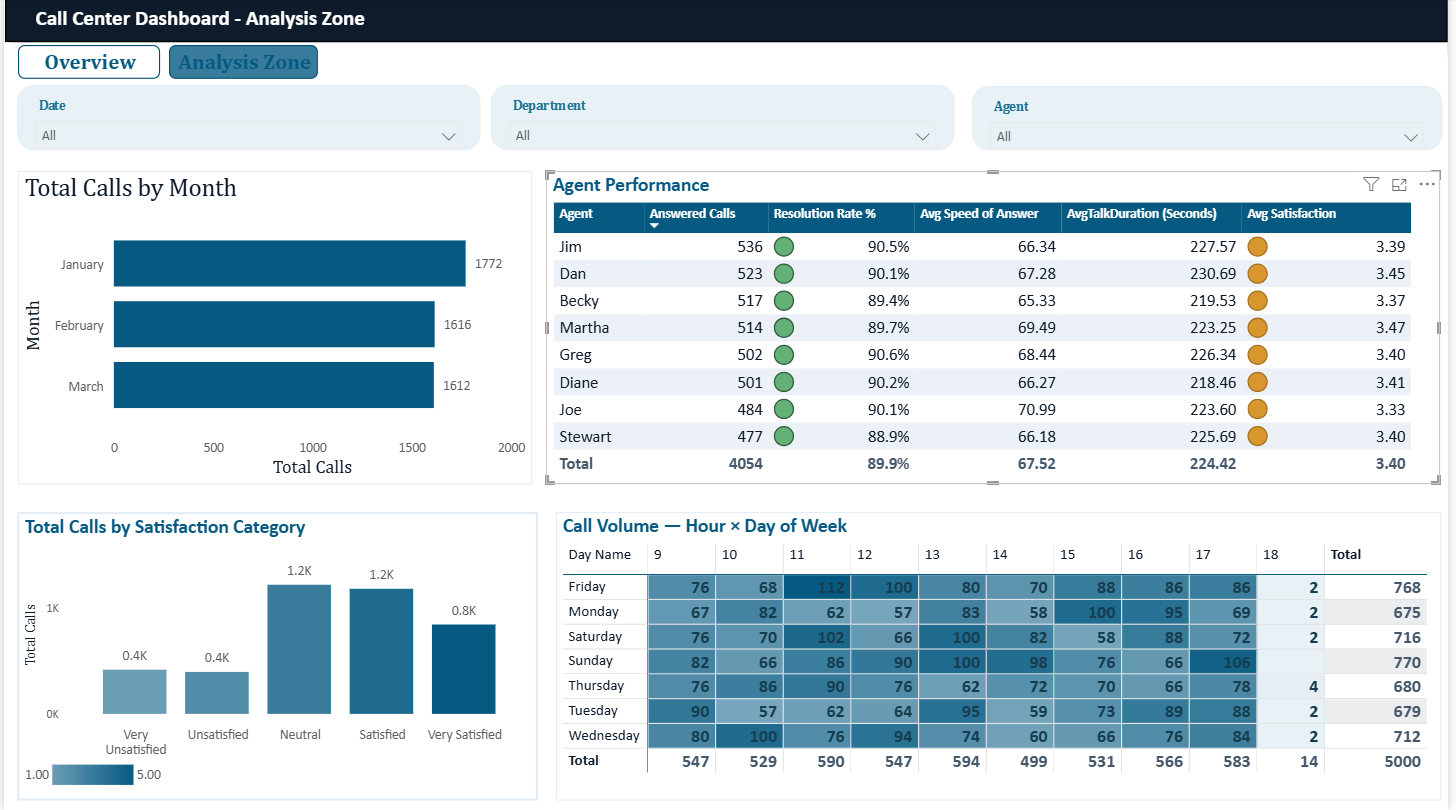

The page's visual inventory and layout, read from the dashboard file:
{"tool":"powerbi","page":{"name":"Analysis Zone","canvas":[1280,720],"ordinal":1},"visuals":[{"type":"tableEx","title":"Agent Performance","fields":{"Values":["Call Center Data.Agent","Measures_.Answered Calls","Measures_.Resolution Rate %","Measures_.Avg Speed of Answer","Measures_.AvgTalkDuration (Seconds)","Measures_.Avg Satisfaction"]},"box":[480.8,153.2,792.8,278],"z":0},{"type":"pivotTable","title":"Call Volume — Hour × Day of Week","fields":{"Columns":["Call Center Data.Hour"],"Rows":["Call Center Data.Day Name"],"Values":["Measures_.Total Calls"]},"box":[489.1,456,784.5,256],"z":1000},{"type":"clusteredColumnChart","fields":{"Category":["Call Center Data.Satisfaction Category"],"Y":["Measures_.Total Calls"]},"box":[11.9,456,462.5,256],"z":2000},{"type":"slicer","fields":{"Values":["Call Center Data.Date"]},"box":[11.8,77.1,410.7,58],"z":3000},{"type":"slicer","fields":{"Values":["Call Center Data.Department"]},"box":[431.5,77.1,410.7,58],"z":4000},{"type":"slicer","fields":{"Values":["Call Center Data.Agent"]},"box":[858.5,78,417,57.1],"z":5000},{"type":"textbox","box":[0.9,0,1279.1,39.5],"z":6000},{"type":"textbox","box":[0,39.9,1280,31.9],"z":7000},{"type":"actionButton","title":"Overview","box":[12.4,41.7,125.9,30.1],"z":8000},{"type":"actionButton","title":"Analysis Zone","box":[146.3,41.7,132.1,30.1],"z":9000},{"type":"clusteredBarChart","fields":{"Category":["Call Center Data.Date.Variation.Date Hierarchy.Month"],"Y":["Measures_.Total Calls"]},"box":[12.8,153.2,456,278],"z":10000}]}

Visuals, with their boxes in screenshot pixels (x1, y1, x2, y2), scaled from the page's 1280x720 canvas onto the 1456x810 screenshot:
"Agent Performance" tableEx: left=547, top=172, right=1449, bottom=485
"Call Volume — Hour × Day of Week" pivotTable: left=556, top=513, right=1449, bottom=801
clusteredColumnChart - Call Center Data.Satisfaction Category x Measures_.Total Calls: left=14, top=513, right=540, bottom=801
slicer - Call Center Data.Date: left=13, top=87, right=481, bottom=152
slicer - Call Center Data.Department: left=491, top=87, right=958, bottom=152
slicer - Call Center Data.Agent: left=977, top=88, right=1451, bottom=152
textbox: left=1, top=0, right=1455, bottom=44
textbox: left=0, top=45, right=1455, bottom=81
"Overview" actionButton: left=14, top=47, right=157, bottom=81
"Analysis Zone" actionButton: left=166, top=47, right=317, bottom=81
clusteredBarChart - Call Center Data.Date.Variation.Date Hierarchy.Month x Measures_.Total Calls: left=15, top=172, right=533, bottom=485
